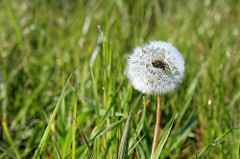dandelion white: (124, 39, 187, 96)
